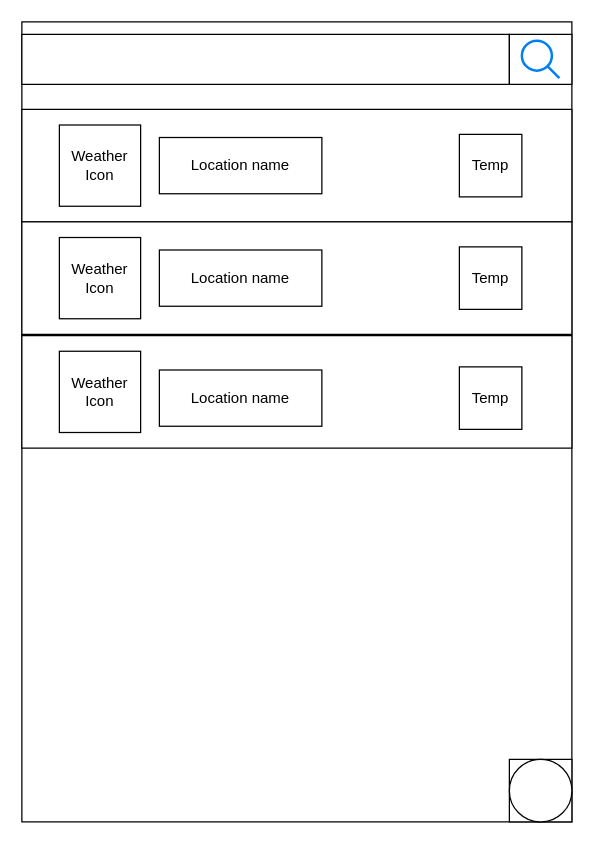
Image size: 594x844. Some labels were removed from this diagram. Here are the shapes that lost their labels. From the top down, the centre of each, then its label:
At (x=265, y=58): "add Location".
At (x=540, y=790): "Settings".
